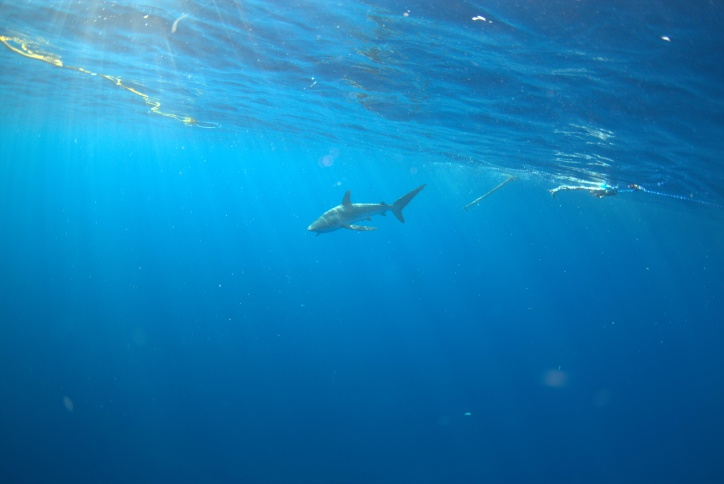Sedoso: (296, 180, 431, 246)
